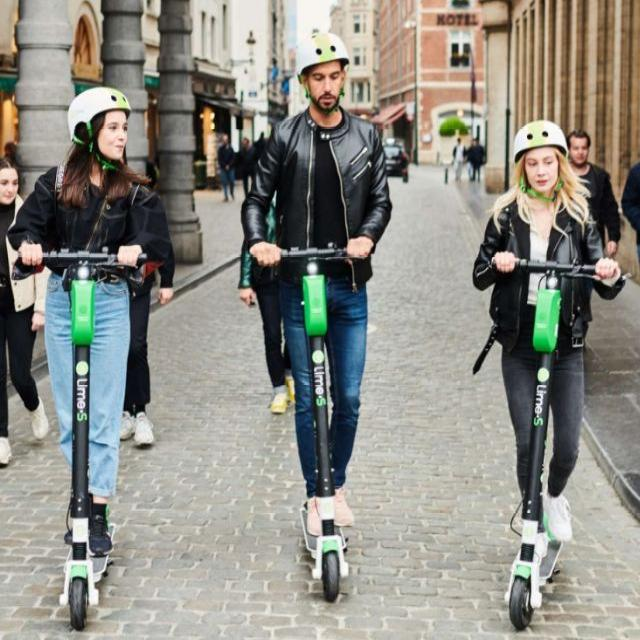helmet: (229, 10, 404, 616), (9, 68, 171, 640), (461, 104, 624, 632)
